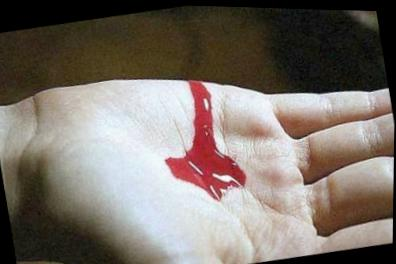Fire: (166, 80, 248, 200)
